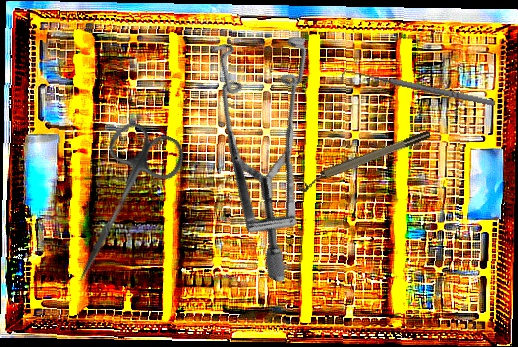Fixation Ring: (292, 127, 435, 195)
Hook Surgical: (341, 66, 496, 113)
Iris Scissors: (49, 113, 191, 299)
Speculum: (129, 1, 391, 285)
